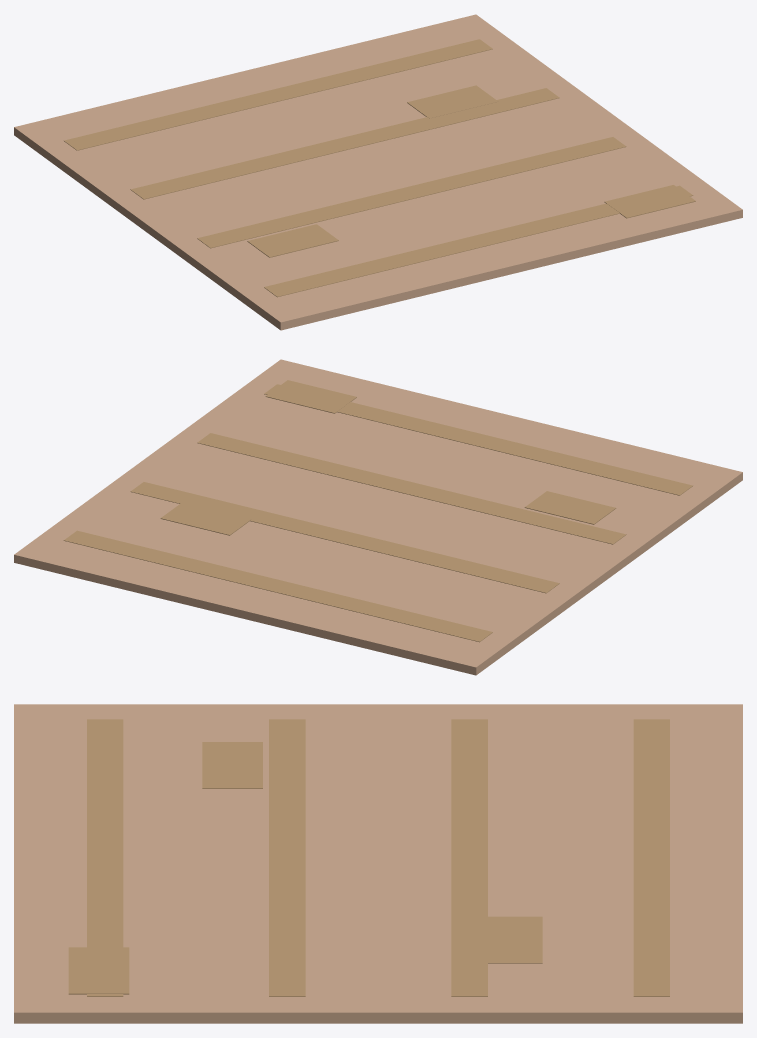
File: baseball-park-and-batting-cages-infield-dirt-tile-fa077637__33740.glb
3 renders of one model, top to bottom at view 1: azimuth 30°, elevation 25°; view 2: azimuth 150°, elevation 25°; view 3: azimuth 270°, elevation 25°, orthographic. The views are drawn at different scales.
Parts seen in each view (by area): view 1: infield-dirt-tile; view 2: infield-dirt-tile; view 3: infield-dirt-tile.
Boxes of the visible parts, bbox=[...] form: infield-dirt-tile: bbox=[14, 14, 742, 330]; infield-dirt-tile: bbox=[14, 359, 742, 675]; infield-dirt-tile: bbox=[14, 704, 742, 1023].
Bounding box in the file's own units: 6 × 0.1081 × 6.
